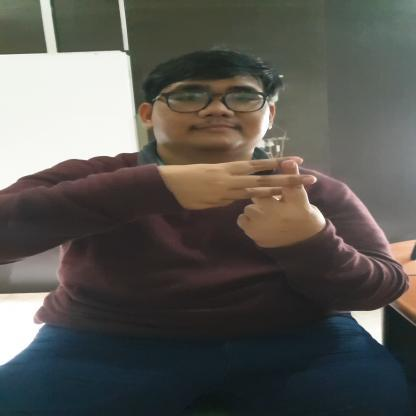B: (170, 150, 327, 252)
